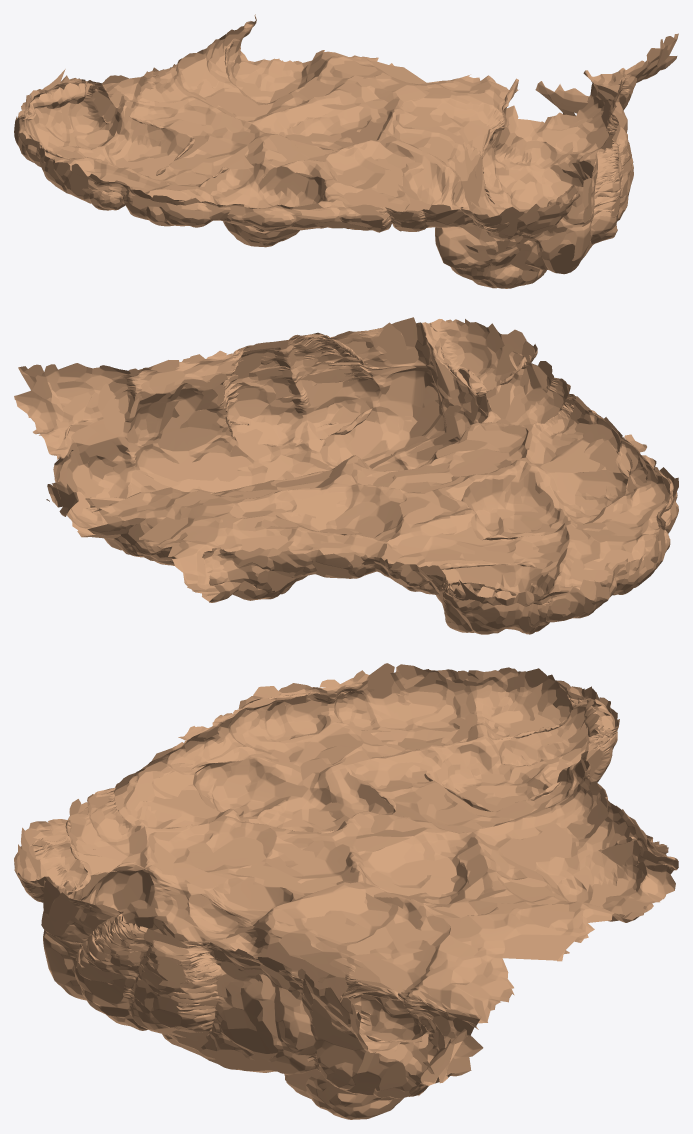
The model's file is SandstoneBig_Mesh_25_002LODs.fbx.
3 views of the same model, one above another, from view 1: azimuth 30°, elevation 25°; view 2: azimuth 150°, elevation 25°; view 3: azimuth 270°, elevation 25° (orthographic). The views are drawn at different scales.
Parts seen in each view (by area): view 1: Mesh_25.002_LOD0; view 2: Mesh_25.002_LOD0; view 3: Mesh_25.002_LOD0.
Boxes of the visible parts, x1,y1,x2,y2 form: Mesh_25.002_LOD0: (14,14,678,288); Mesh_25.002_LOD0: (14,317,678,634); Mesh_25.002_LOD0: (14,663,678,1119).
Size of what is drawn, in the model's own units: 19078 by 4653 by 15242.
